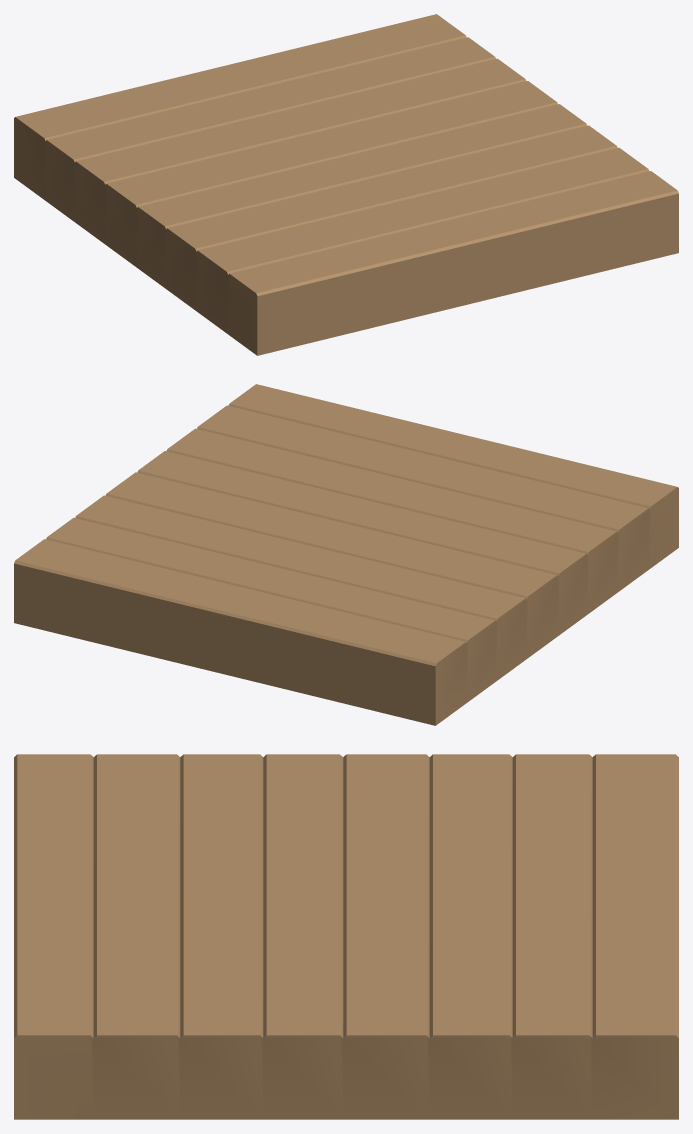
The model's file is floor.glb.
3 renders of one model, top to bottom at view 1: azimuth 30°, elevation 25°; view 2: azimuth 150°, elevation 25°; view 3: azimuth 270°, elevation 25°, orthographic. The views are drawn at different scales.
Visible parts, largest first — view 1: PART; view 2: PART; view 3: PART.
Boxes of the visible parts, x1=… form: PART: x1=14, y1=14, x2=678, y2=355; PART: x1=14, y1=384, x2=678, y2=725; PART: x1=14, y1=754, x2=678, y2=1119.
Bounding box in the file's own units: 1 × 0.14 × 1.
